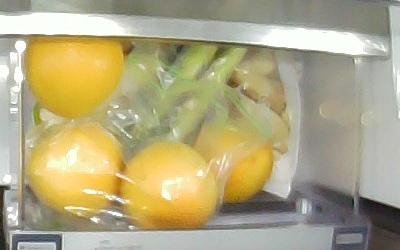grapefruit: (24, 35, 123, 118)
grapefruit_vinyl: (29, 125, 123, 216), (122, 141, 216, 226), (193, 121, 273, 204)
